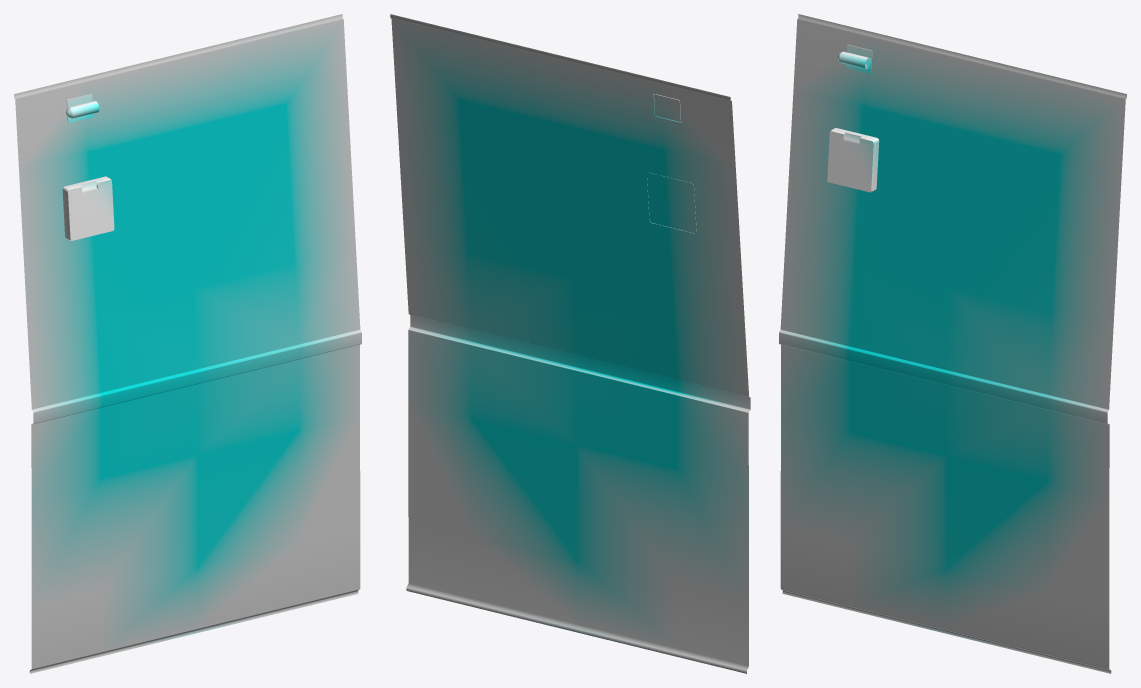
Rendered from SM_ext_wall_150_01.fbx.
3 renders of one model, left to right at view 1: azimuth 30°, elevation 25°; view 2: azimuth 150°, elevation 25°; view 3: azimuth 330°, elevation 25°, orthographic. The views are drawn at different scales.
Parts seen in each view (by area): view 1: SM_ext_wall_150_01; view 2: SM_ext_wall_150_01; view 3: SM_ext_wall_150_01.
Boxes of the visible parts, x1,y1,x2,y2 form: SM_ext_wall_150_01: [14, 14, 361, 673]; SM_ext_wall_150_01: [390, 14, 750, 673]; SM_ext_wall_150_01: [779, 14, 1126, 673].
Bounding box in the file's own units: 150 × 15.33 × 248.
